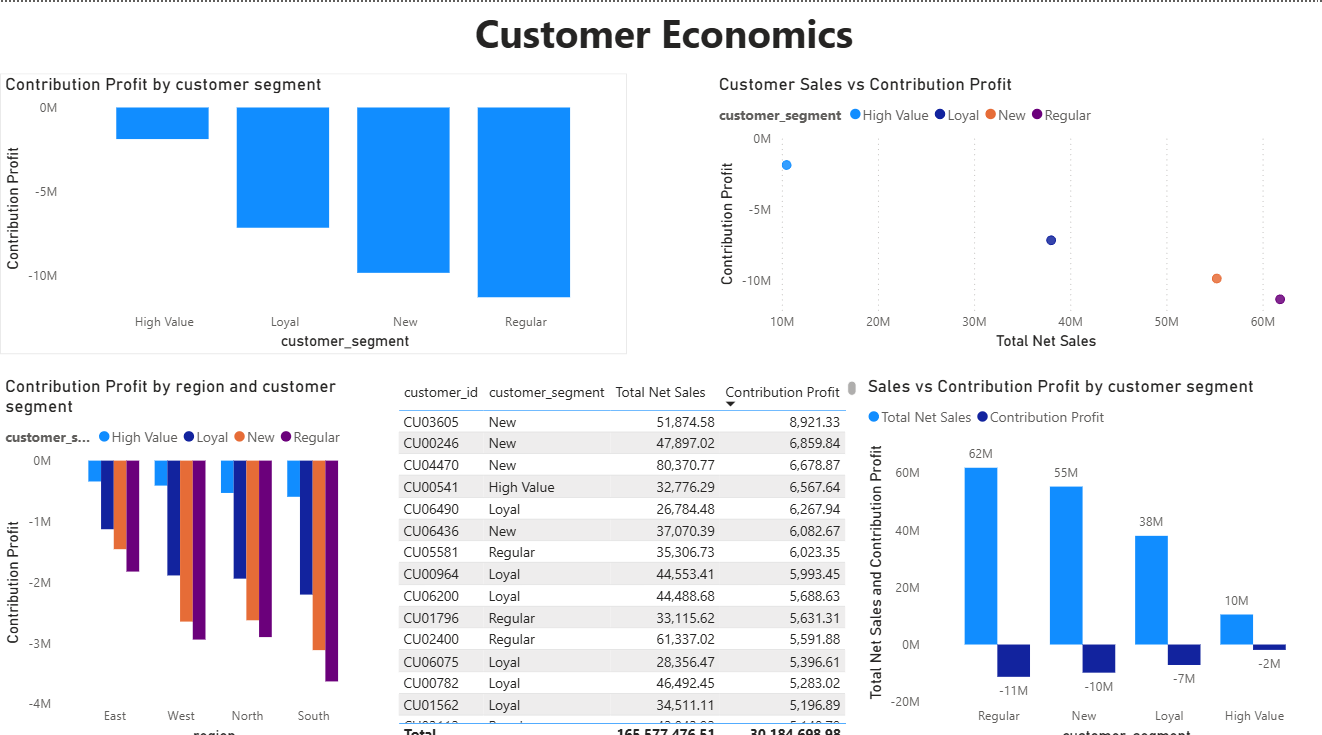

The dashboard page shown, as its layout file describes it:
{"tool":"powerbi","page":{"name":"Customer Economics","canvas":[1280,720],"ordinal":2},"visuals":[{"type":"clusteredColumnChart","title":"Contribution Profit by customer segment","fields":{"Category":["tblcustomers.customer_segment"],"Y":["tblorders.Contribution Profit"]},"box":[0,68.8,605,271.2],"z":0},{"type":"clusteredColumnChart","title":" Sales vs Contribution Profit by customer segment","fields":{"Category":["tblcustomers.customer_segment"],"Y":["tblorders.Total Net Sales","tblorders.Contribution Profit"]},"box":[831.2,360,448.8,360],"z":1000},{"type":"tableEx","fields":{"Values":["tblcustomers.customer_id","tblcustomers.customer_segment","tblorders.Total Net Sales","tblorders.Contribution Profit"]},"box":[378.8,360,452.5,360],"z":2000},{"type":"scatterChart","title":"  Customer Sales vs Contribution Profit ","fields":{"X":["tblorders.Total Net Sales"],"Y":["tblorders.Contribution Profit"],"Series":["tblcustomers.customer_segment"]},"box":[687.5,68.8,592.5,271.2],"z":3000},{"type":"clusteredColumnChart","title":"Contribution Profit by region and customer segment","fields":{"Category":["tblcustomers.region"],"Y":["tblorders.Contribution Profit"],"Series":["tblcustomers.customer_segment"]},"box":[0,360,358.8,360],"z":4000},{"type":"textbox","box":[0,0,1280,68.8],"z":5000}]}

Visuals, with their boxes in screenshot pixels (x1, y1, x2, y2), scaled from the page's 1280x720 canvas onto the 1322x735 screenshot:
"Contribution Profit by customer segment" clusteredColumnChart: 0 70 625 347
" Sales vs Contribution Profit by customer segment" clusteredColumnChart: 858 368 1321 734
tableEx - tblcustomers.customer_id x tblcustomers.customer_segment: 391 368 859 734
"  Customer Sales vs Contribution Profit " scatterChart: 710 70 1321 347
"Contribution Profit by region and customer segment" clusteredColumnChart: 0 368 371 734
textbox: 0 0 1321 70
